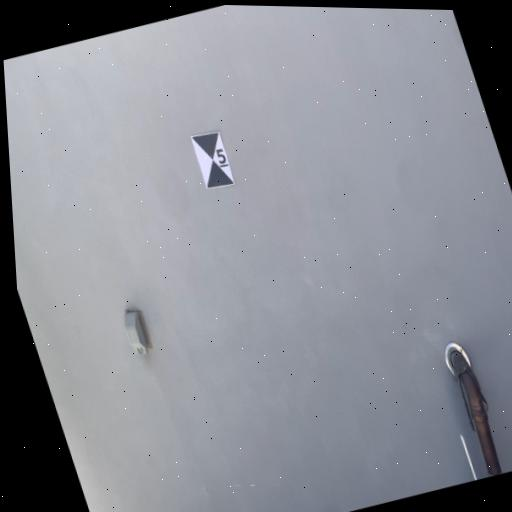target5: (190, 128, 236, 190)
